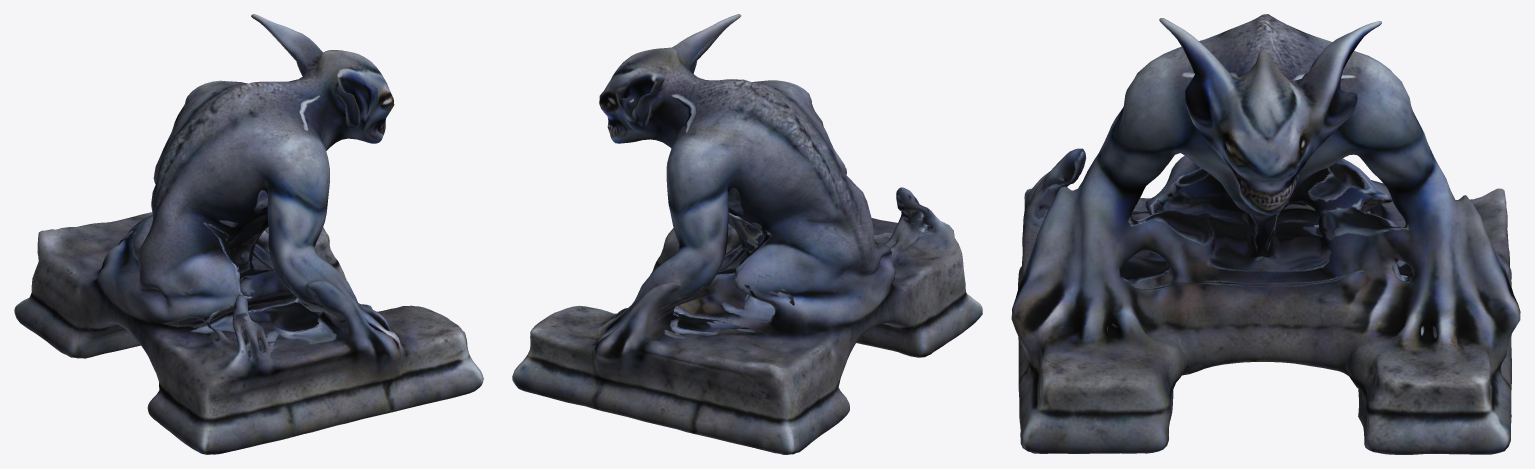
File: Gargoyle 1.fbx
3 views of the same model, side by side, from view 1: azimuth 30°, elevation 25°; view 2: azimuth 150°, elevation 25°; view 3: azimuth 270°, elevation 25° (orthographic). The views are drawn at different scales.
Parts seen in each view (by area): view 1: mesh; view 2: mesh; view 3: mesh.
Part boxes in pixels (x1,y1,x2,y2): mesh: (14,14,483,454); mesh: (512,14,982,454); mesh: (1011,14,1520,454).
Bounding box in the file's own units: 82.24 × 82.47 × 99.61.
